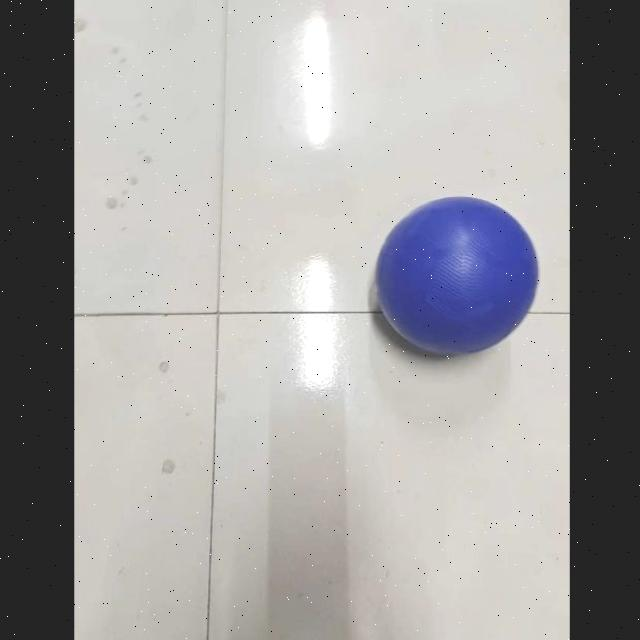B: (368, 192, 542, 362)
